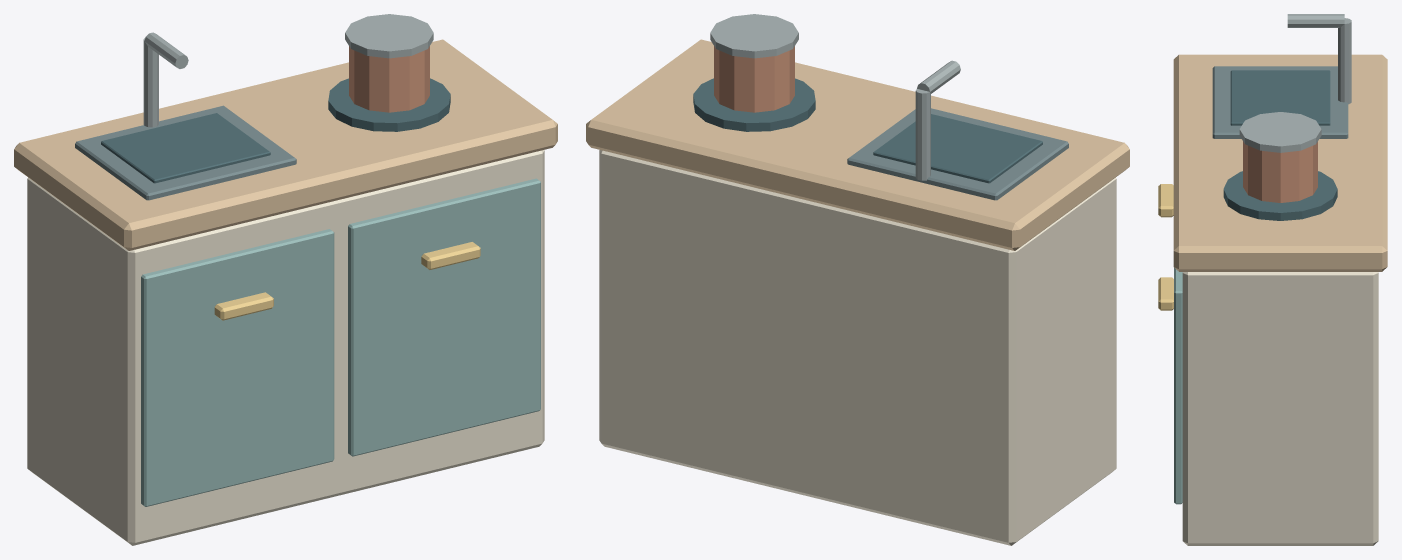
Rendered from kitchen.glb.
3 views of the same model, side by side, from view 1: azimuth 30°, elevation 25°; view 2: azimuth 150°, elevation 25°; view 3: azimuth 270°, elevation 25° (orthographic). The views are drawn at different scales.
Parts seen in each view (by area): view 1: kitchen; view 2: kitchen; view 3: kitchen.
Boxes of the visible parts, left/top/right/bottom form: kitchen: left=14, top=14, right=557, bottom=545; kitchen: left=586, top=14, right=1129, bottom=545; kitchen: left=1158, top=14, right=1387, bottom=545.
Bounding box in the file's own units: 1.3 × 1.22 × 0.6425.
